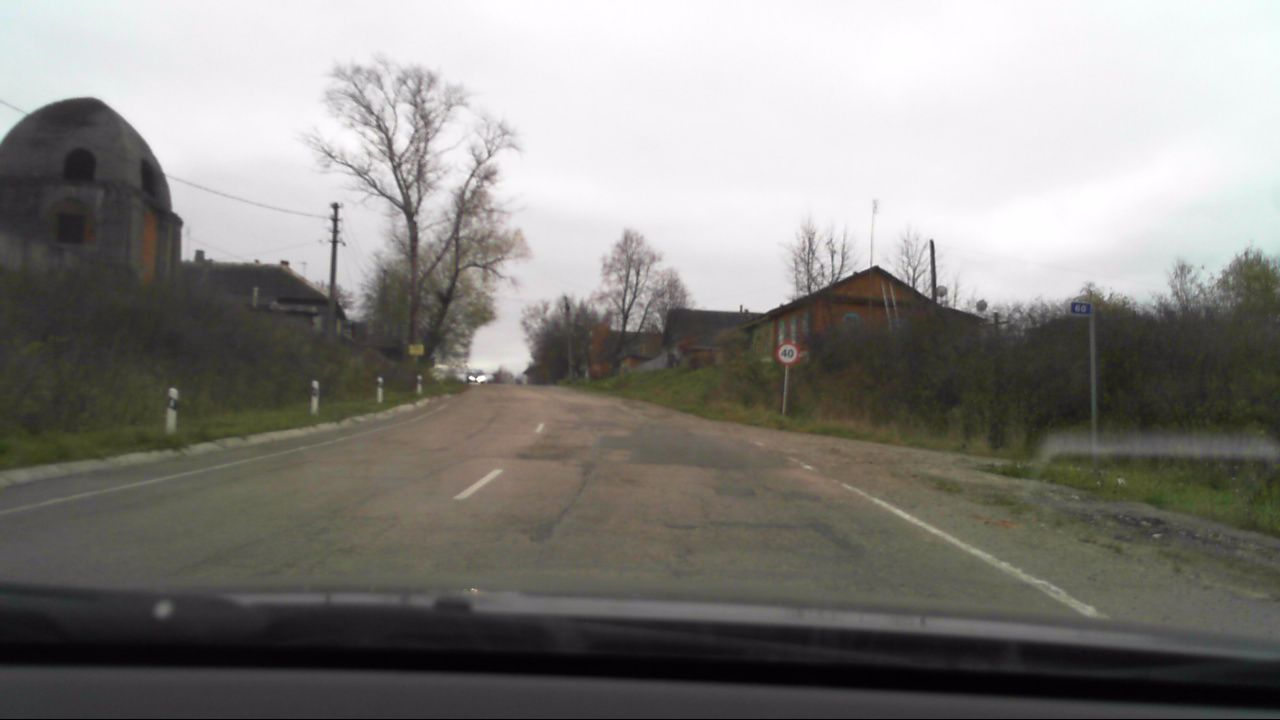speed_warning_40: (776, 343, 798, 364)
